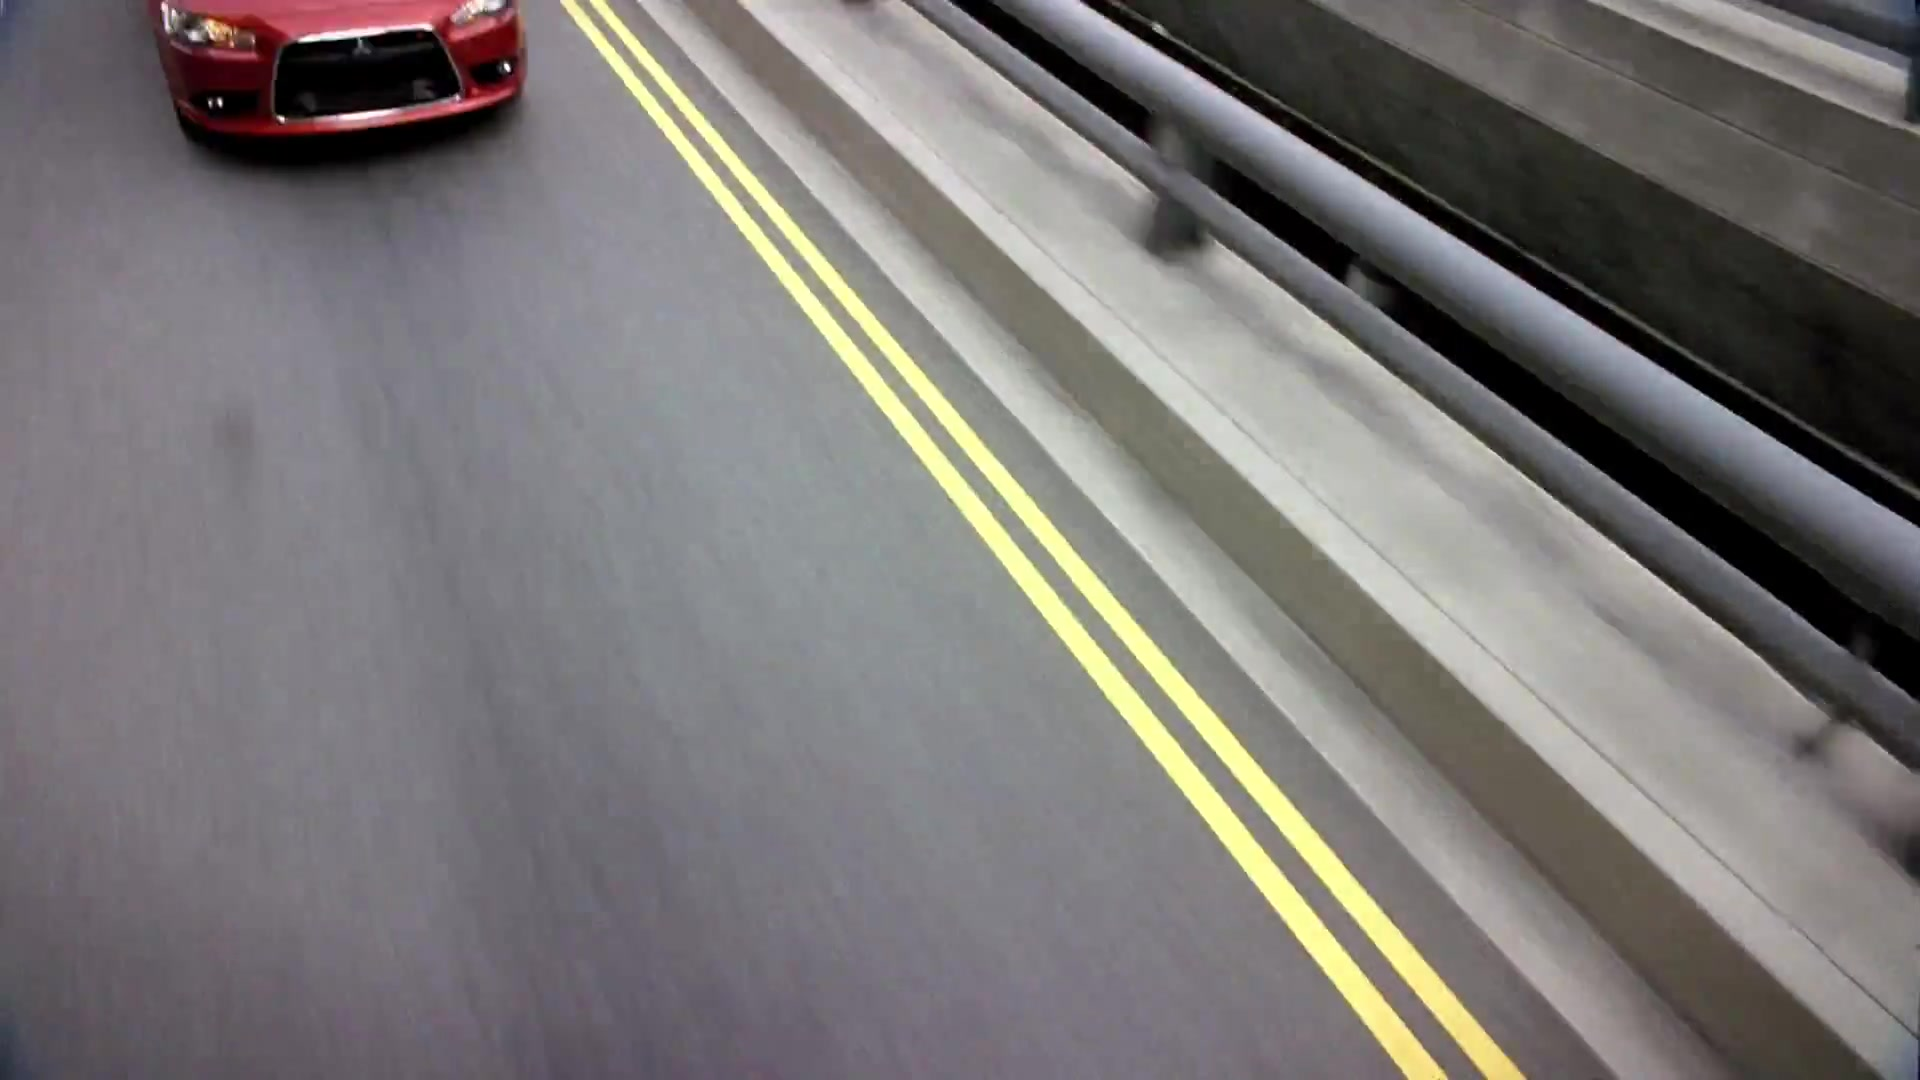car: (138, 1, 545, 177)
